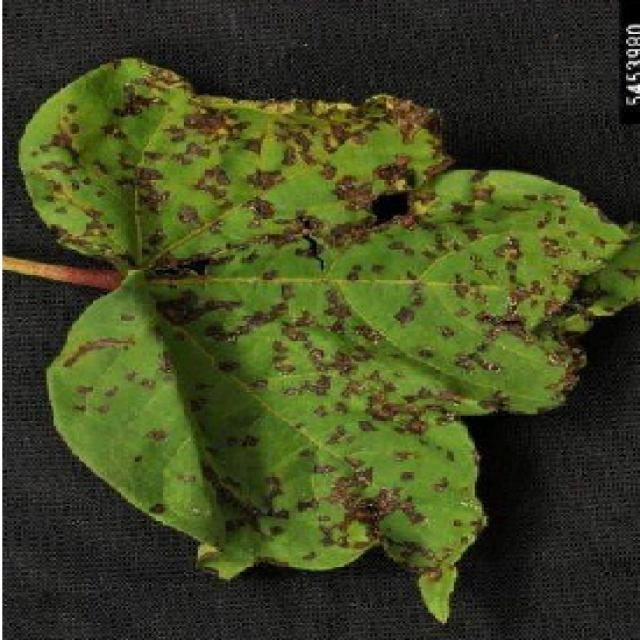Bacterial Blight: (122, 91, 440, 488)
